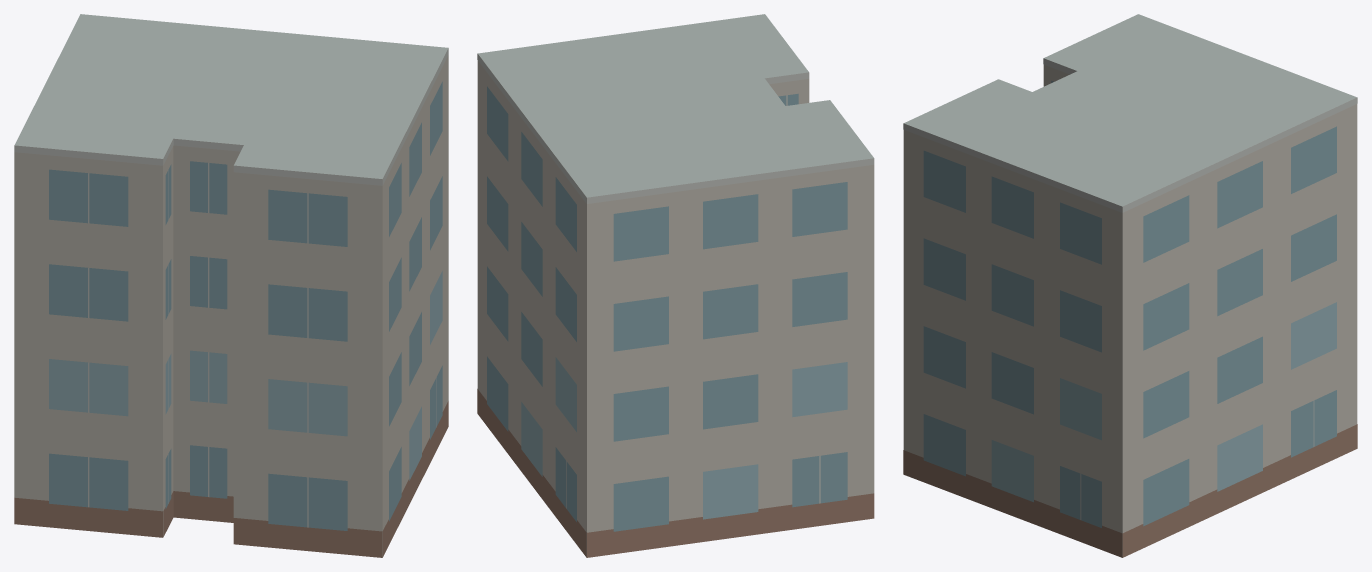
File: survey-upis-33012640.glb
The picture shows the model from 3 angles, left to right: view 1: azimuth 30°, elevation 25°; view 2: azimuth 150°, elevation 25°; view 3: azimuth 270°, elevation 25°; orthographic projection. The views are drawn at different scales.
Parts seen in each view (by area): view 1: survey-upis-33012640.tmp; view 2: survey-upis-33012640.tmp; view 3: survey-upis-33012640.tmp.
Boxes of the visible parts, bbox=[...] form: survey-upis-33012640.tmp: bbox=[14, 14, 448, 557]; survey-upis-33012640.tmp: bbox=[477, 14, 874, 557]; survey-upis-33012640.tmp: bbox=[903, 14, 1357, 557].
Size of the model in its own units: 16 by 13.6 by 15.93.
